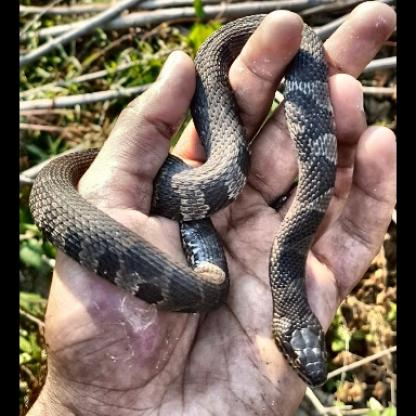Snake: (36, 1, 330, 391)
